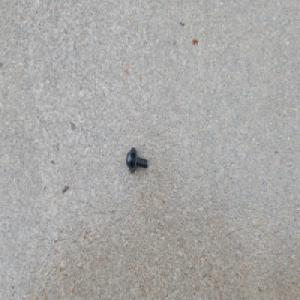BoltWasher: (126, 144, 149, 172)
